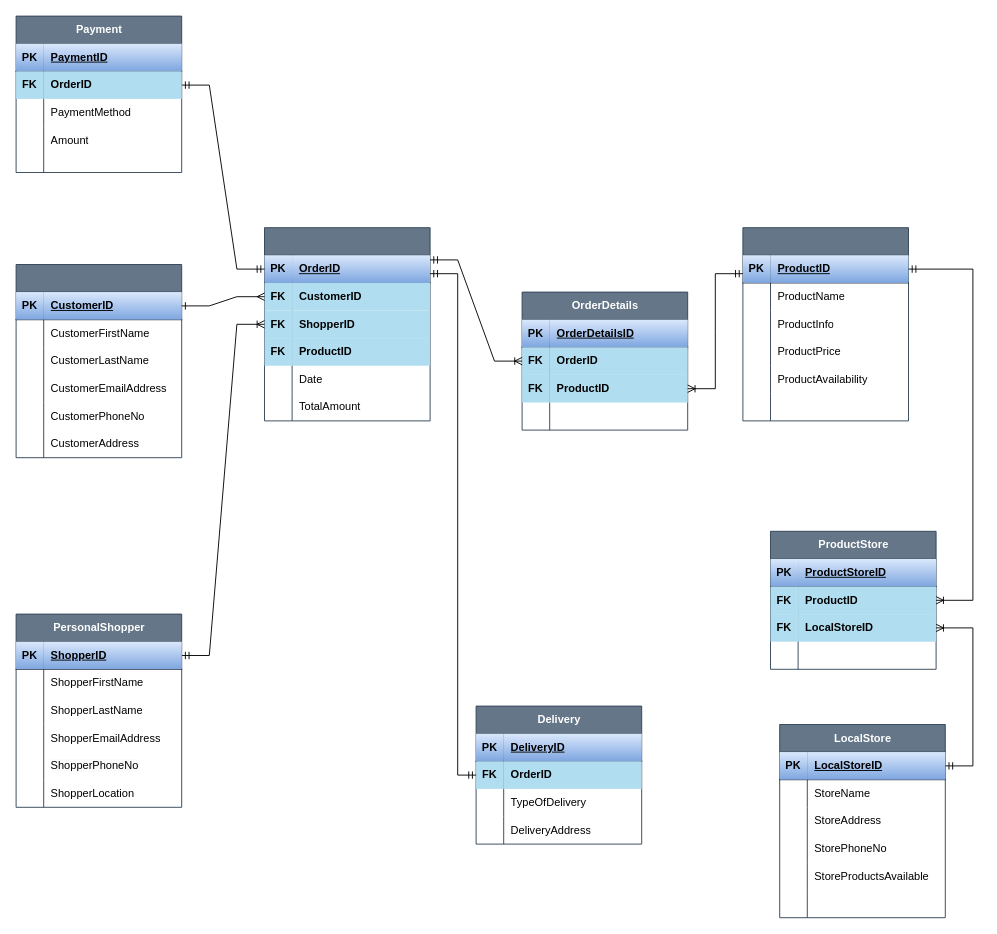
Image size: 997x934. Some labels were removed from this diagram. The shapes that lost their labels are listed below. From the top down, each one's box as (x1, y1, x2, y2) in pixels, then its label:
(264, 227, 430, 421): Orders
(742, 227, 908, 421): Products
(15, 264, 182, 458): Customers
